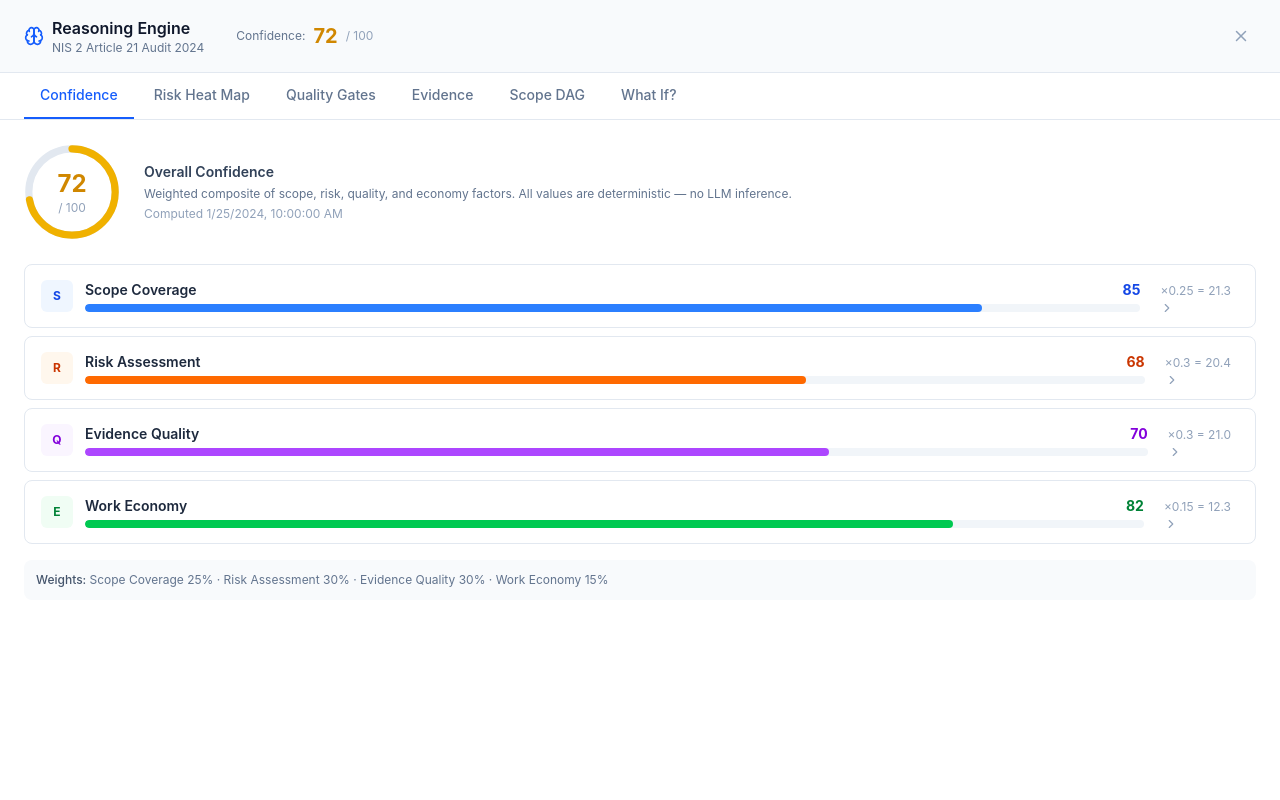
ReasoningEngineOverlay › switches to evidence sufficiency tab
Click the button with test id "tab-sufficiency": (443, 96) [396,73,489,119]
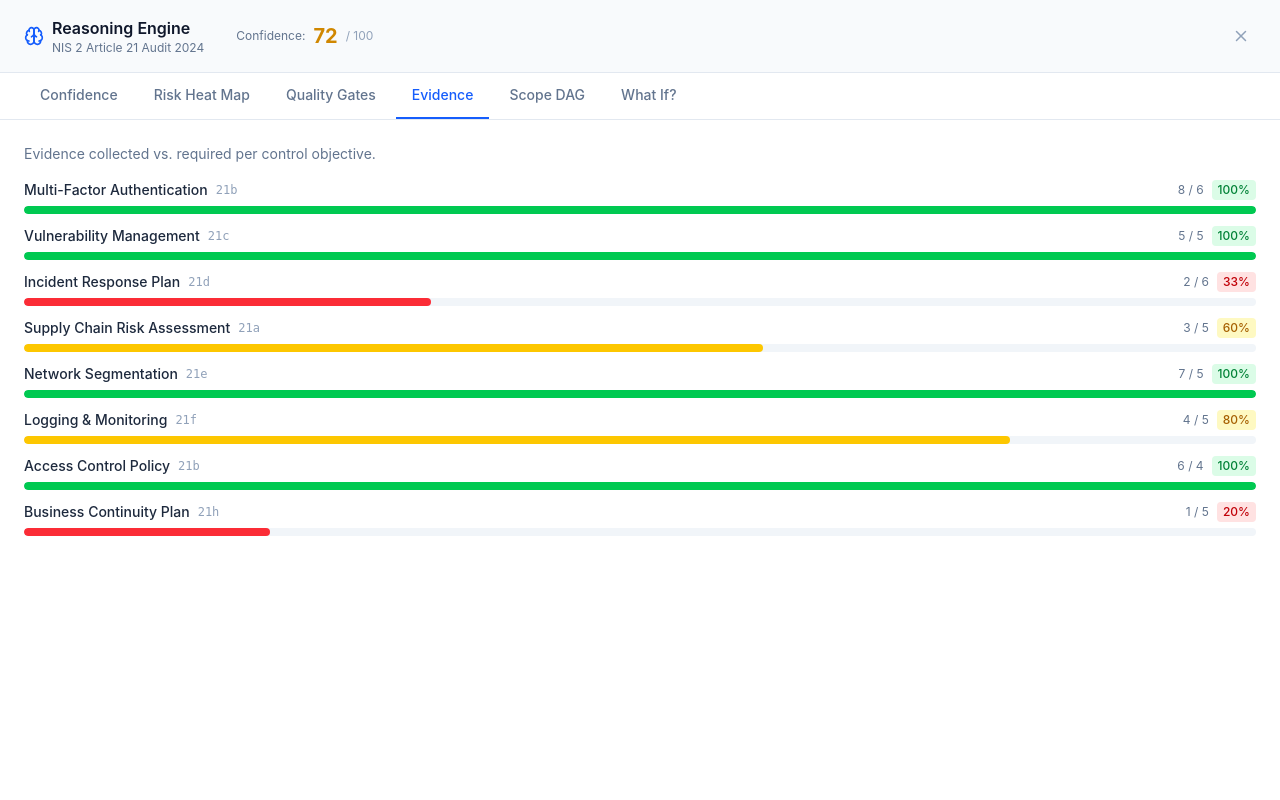
Result: the element with test id "evidence-sufficiency" is shown at [24,180,1256,536]
